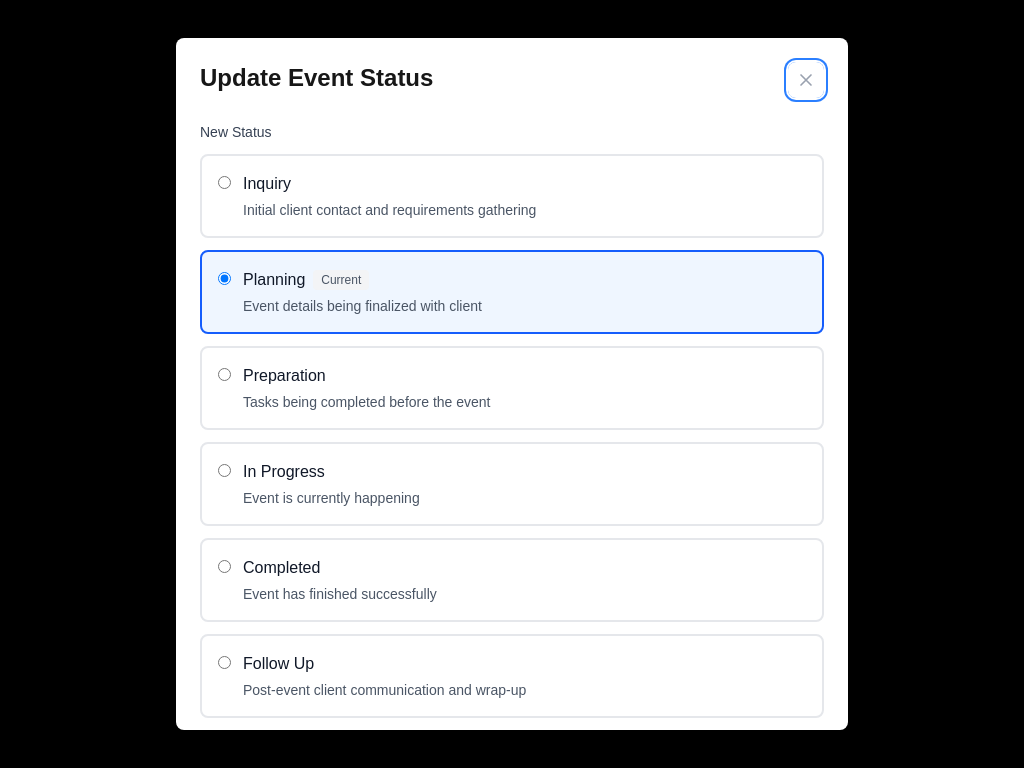
Scenario: EventStatusUpdateDialog › enables submit button when different status is selected
Step 1. Click the radio button labelled "Inquiry Initial client contact and requirements gathering" → click(224, 183), box [218,176,231,189]
(page scrolled)
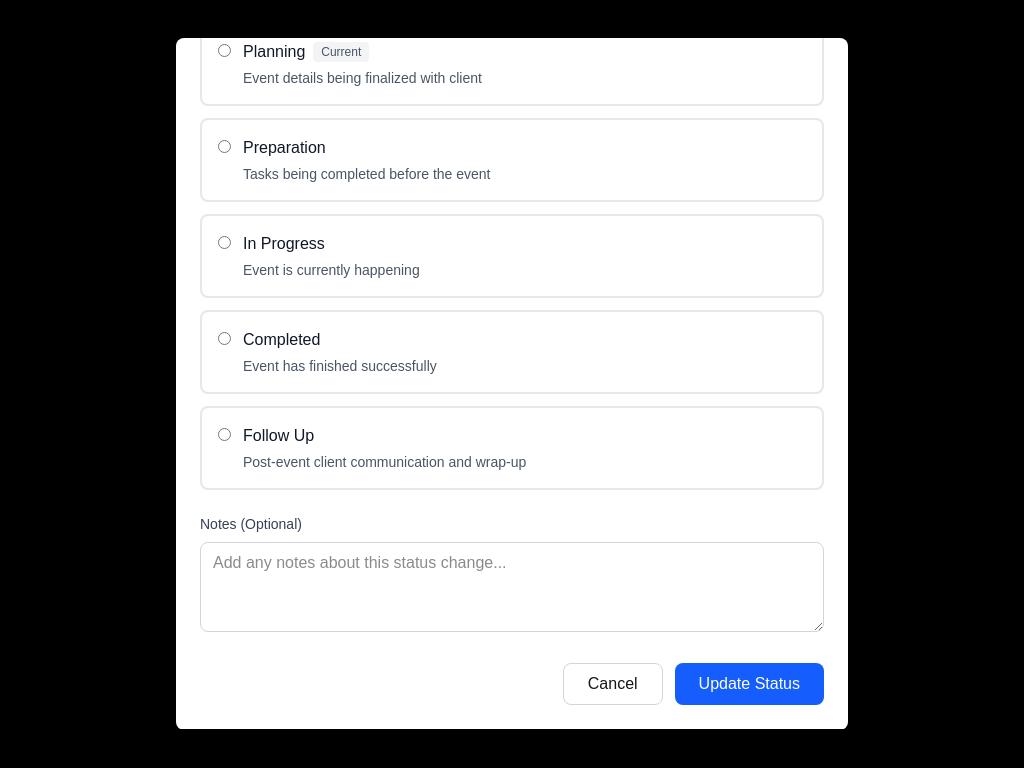
Now the button "Update Status" is enabled, box [675,663,824,705]
